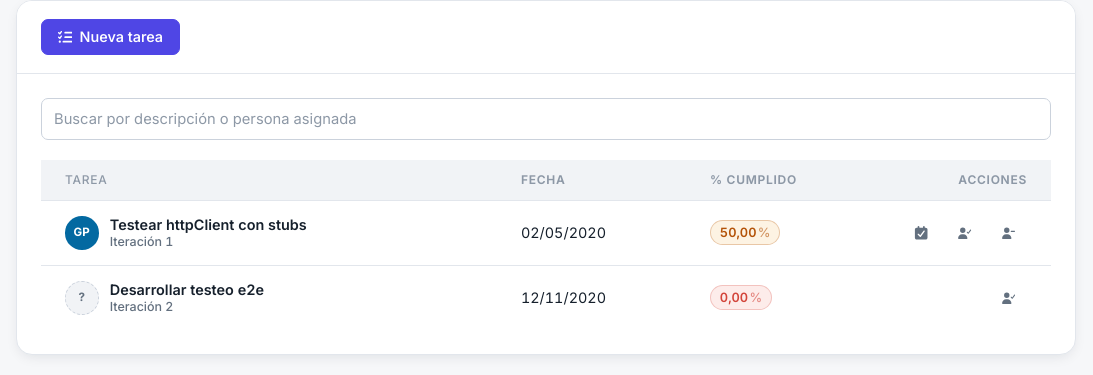
Test: TareasComponent › unassign first task
Click the button named "Desasignarme": [1008, 233] box [989,214,1027,252]
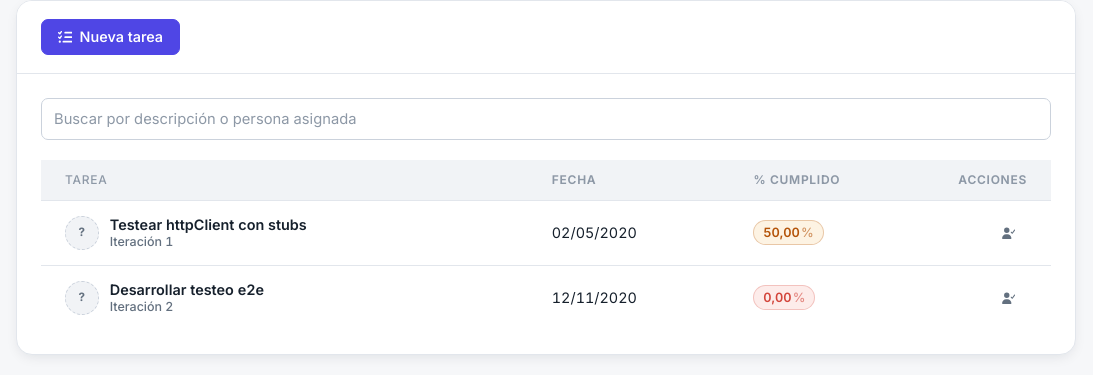
Now the text "?" next to "Testear httpClient con stubs" is shown, box [78,225,85,239]
